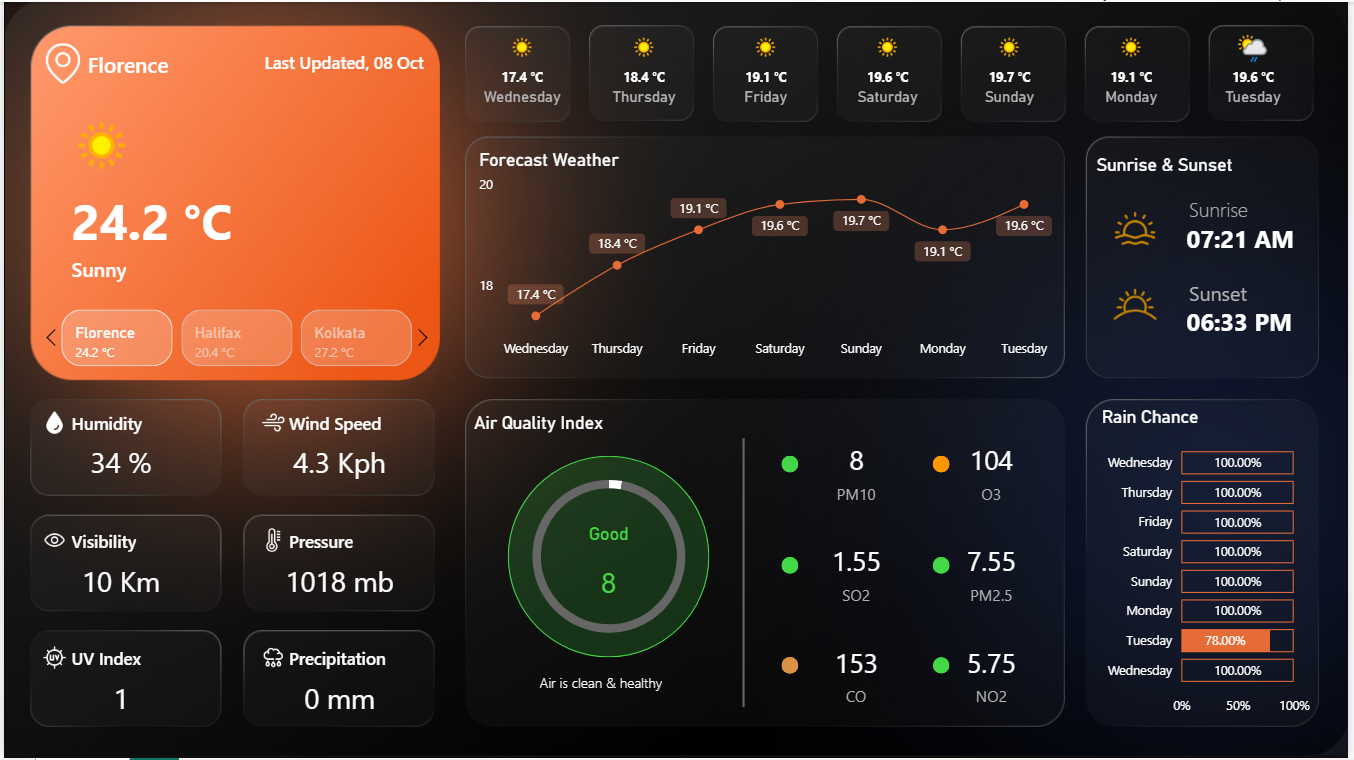

What the dashboard file says about the page in this screenshot:
{"tool":"powerbi","page":{"name":"Page 1","canvas":[1280,720],"ordinal":0},"visuals":[{"type":"shape","box":[480,432,192,192],"z":0},{"type":"advancedSlicerVisual","fields":{"Values":["Locations.location.name"]},"box":[30,288,384,64],"z":1000},{"type":"shape","box":[64,160,224,96],"z":2000},{"type":"shape","box":[64,230,320,48],"z":3000},{"type":"shape","box":[80,35,160,48],"z":4000},{"type":"shape","box":[224,32,176,48],"z":5000},{"type":"image","box":[32,35,48,48],"z":6000},{"type":"cardVisual","fields":{"Data":["Min(Current.current.condition.icon)"]},"box":[32,80,112,96],"z":7000},{"type":"shape","box":[64,496,128,32],"z":8000},{"type":"image","box":[32,496,32,32],"z":9000},{"type":"image","box":[32,384,32,32],"z":10000},{"type":"shape","box":[64,384,128,32],"z":11000},{"type":"image","box":[32,608,32,32],"z":12000},{"type":"shape","box":[64,608,128,32],"z":13000},{"type":"image","box":[240,384,32,32],"z":14000},{"type":"image","box":[240,496,32,32],"z":15000},{"type":"image","box":[240,608,32,32],"z":16000},{"type":"shape","box":[272,384,128,32],"z":17000},{"type":"shape","box":[272,496,128,32],"z":18000},{"type":"shape","box":[272,608,128,32],"z":19000},{"type":"card","fields":{"Values":["View.Curr_Humidity"]},"box":[48,416,128,48],"z":20000},{"type":"card","fields":{"Values":["View.Curr_Wind_Speed"]},"box":[256,416,128,48],"z":21000},{"type":"card","fields":{"Values":["View.Curr_Visibility"]},"box":[48,528,128,48],"z":22000},{"type":"card","fields":{"Values":["View.Curr_Pressure"]},"box":[256,528,128,48],"z":23000},{"type":"card","fields":{"Values":["Sum(Current.current.uv)"]},"box":[48,640,128,48],"z":24000},{"type":"card","fields":{"Values":["View.Curr_Precipitation"]},"box":[256,640,128,48],"z":25000},{"type":"advancedSlicerVisual","fields":{"Values":["Forecast_Day.Day_Name"]},"box":[435,20,816,96],"z":26000},{"type":"lineChart","title":"Forecast Weather","fields":{"Category":["Forecast_Day.Day_Name"],"Y":["Sum(Forecast_Day.forecast.forecastday.day.avgtemp_c)"]},"box":[448,140,560,208],"z":27000},{"type":"shape","box":[1040,138,192,32],"z":28000},{"type":"shape","box":[1129.2,180.5,144,32],"z":29000},{"type":"shape","box":[1126.1,288,128,32],"z":30000},{"type":"shape","box":[1126.1,208,128,32],"z":31000},{"type":"shape","box":[1129.2,260.5,144,32],"z":32000},{"type":"image","box":[1045,192,64,48],"z":33000},{"type":"image","box":[1045,256,64,64],"z":34000},{"type":"hundredPercentStackedBarChart","title":"Rain Chance","fields":{"Y":["Sum(Forecast_Day.forecast.forecastday.day.daily_chance_of_rain)","View.Left_Value_Rain"],"Category":["Forecast_Day.Day_Name"]},"box":[1040,384,208,304],"z":35000},{"type":"shape","box":[448,384,192,32],"z":36000},{"type":"card","fields":{"Values":["Sum(Current.current.air_quality.o3)"]},"box":[884.1,416,112,64],"z":37000},{"type":"card","fields":{"Values":["Sum(Current.current.air_quality.pm2_5)"]},"box":[884.1,512,112,64],"z":38000},{"type":"card","fields":{"Values":["Sum(Current.current.air_quality.no2)"]},"box":[884.1,608,112,64],"z":39000},{"type":"card","fields":{"Values":["Sum(Current.current.air_quality.co)"]},"box":[756.1,608,112,64],"z":40000},{"type":"card","fields":{"Values":["Sum(Current.current.air_quality.so2)"]},"box":[756.1,512,112,64],"z":41000},{"type":"card","fields":{"Values":["Sum(Current.current.air_quality.pm10)"]},"box":[756.1,416,112,64],"z":42000},{"type":"shape","box":[740.1,432,16,16],"z":43000},{"type":"shape","box":[884.1,432,16,16],"z":44000},{"type":"shape","box":[740.1,528,16,16],"z":45000},{"type":"shape","box":[884.1,528,16,16],"z":46000},{"type":"shape","box":[884.1,624,16,16],"z":47000},{"type":"shape","box":[608,416,192,256],"z":48000},{"type":"card","fields":{"Values":["Sum(Current.current.air_quality.pm10)"]},"box":[512,496,128,96],"z":49000},{"type":"donutChart","fields":{"Y":["Sum(Current.current.air_quality.pm10)","View.Left_Value_PM"]},"box":[464,432,224,192],"z":50000},{"type":"shape","box":[464,624,208,48],"z":51000},{"type":"shape","box":[741,624,16,16],"z":52000}]}

Visuals, with their boxes in screenshot pixels (x1, y1, x2, y2), scaled from the page's 1280x720 canvas onto the 1354x760 screenshot:
shape: bbox=[508, 456, 711, 659]
advancedSlicerVisual - Locations.location.name: bbox=[32, 304, 438, 372]
shape: bbox=[68, 169, 305, 270]
shape: bbox=[68, 243, 406, 293]
shape: bbox=[85, 37, 254, 88]
shape: bbox=[237, 34, 423, 84]
image: bbox=[34, 37, 85, 88]
cardVisual - Min(Current.current.condition.icon): bbox=[34, 84, 152, 186]
shape: bbox=[68, 524, 203, 557]
image: bbox=[34, 524, 68, 557]
image: bbox=[34, 405, 68, 439]
shape: bbox=[68, 405, 203, 439]
image: bbox=[34, 642, 68, 676]
shape: bbox=[68, 642, 203, 676]
image: bbox=[254, 405, 288, 439]
image: bbox=[254, 524, 288, 557]
image: bbox=[254, 642, 288, 676]
shape: bbox=[288, 405, 423, 439]
shape: bbox=[288, 524, 423, 557]
shape: bbox=[288, 642, 423, 676]
card - View.Curr_Humidity: bbox=[51, 439, 186, 490]
card - View.Curr_Wind_Speed: bbox=[271, 439, 406, 490]
card - View.Curr_Visibility: bbox=[51, 557, 186, 608]
card - View.Curr_Pressure: bbox=[271, 557, 406, 608]
card - Sum(Current.current.uv): bbox=[51, 676, 186, 726]
card - View.Curr_Precipitation: bbox=[271, 676, 406, 726]
advancedSlicerVisual - Forecast_Day.Day_Name: bbox=[460, 21, 1323, 122]
"Forecast Weather" lineChart: bbox=[474, 148, 1066, 367]
shape: bbox=[1100, 146, 1303, 179]
shape: bbox=[1194, 191, 1347, 224]
shape: bbox=[1191, 304, 1327, 338]
shape: bbox=[1191, 220, 1327, 253]
shape: bbox=[1194, 275, 1347, 309]
image: bbox=[1105, 203, 1173, 253]
image: bbox=[1105, 270, 1173, 338]
"Rain Chance" hundredPercentStackedBarChart: bbox=[1100, 405, 1320, 726]
shape: bbox=[474, 405, 677, 439]
card - Sum(Current.current.air_quality.o3): bbox=[935, 439, 1054, 507]
card - Sum(Current.current.air_quality.pm2_5): bbox=[935, 540, 1054, 608]
card - Sum(Current.current.air_quality.no2): bbox=[935, 642, 1054, 709]
card - Sum(Current.current.air_quality.co): bbox=[800, 642, 918, 709]
card - Sum(Current.current.air_quality.so2): bbox=[800, 540, 918, 608]
card - Sum(Current.current.air_quality.pm10): bbox=[800, 439, 918, 507]
shape: bbox=[783, 456, 800, 473]
shape: bbox=[935, 456, 952, 473]
shape: bbox=[783, 557, 800, 574]
shape: bbox=[935, 557, 952, 574]
shape: bbox=[935, 659, 952, 676]
shape: bbox=[643, 439, 846, 709]
card - Sum(Current.current.air_quality.pm10): bbox=[542, 524, 677, 625]
donutChart - Sum(Current.current.air_quality.pm10) x View.Left_Value_PM: bbox=[491, 456, 728, 659]
shape: bbox=[491, 659, 711, 709]
shape: bbox=[784, 659, 801, 676]
